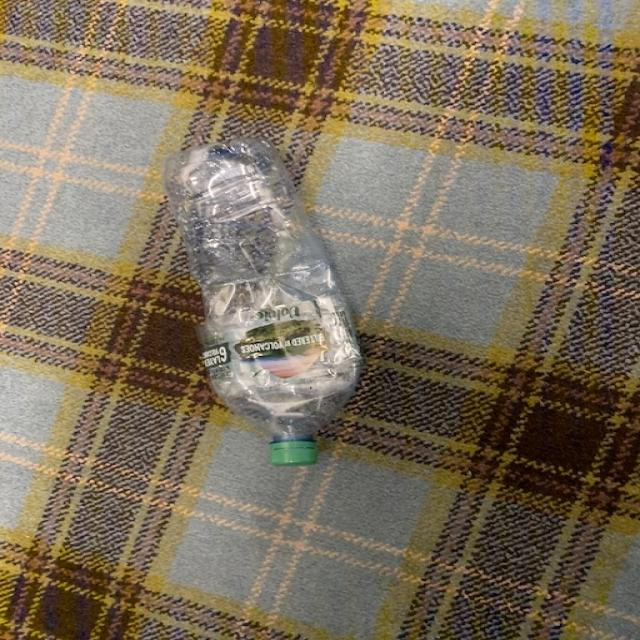Waste: (165, 139, 361, 466)
